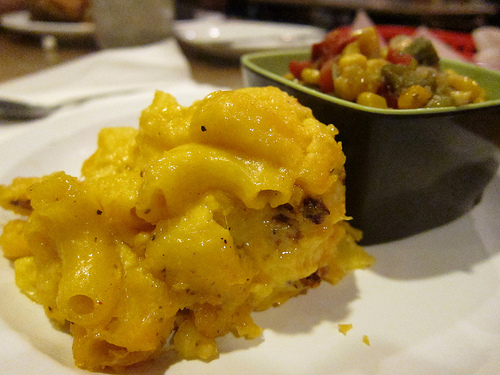macncheese: (2, 78, 370, 375)
